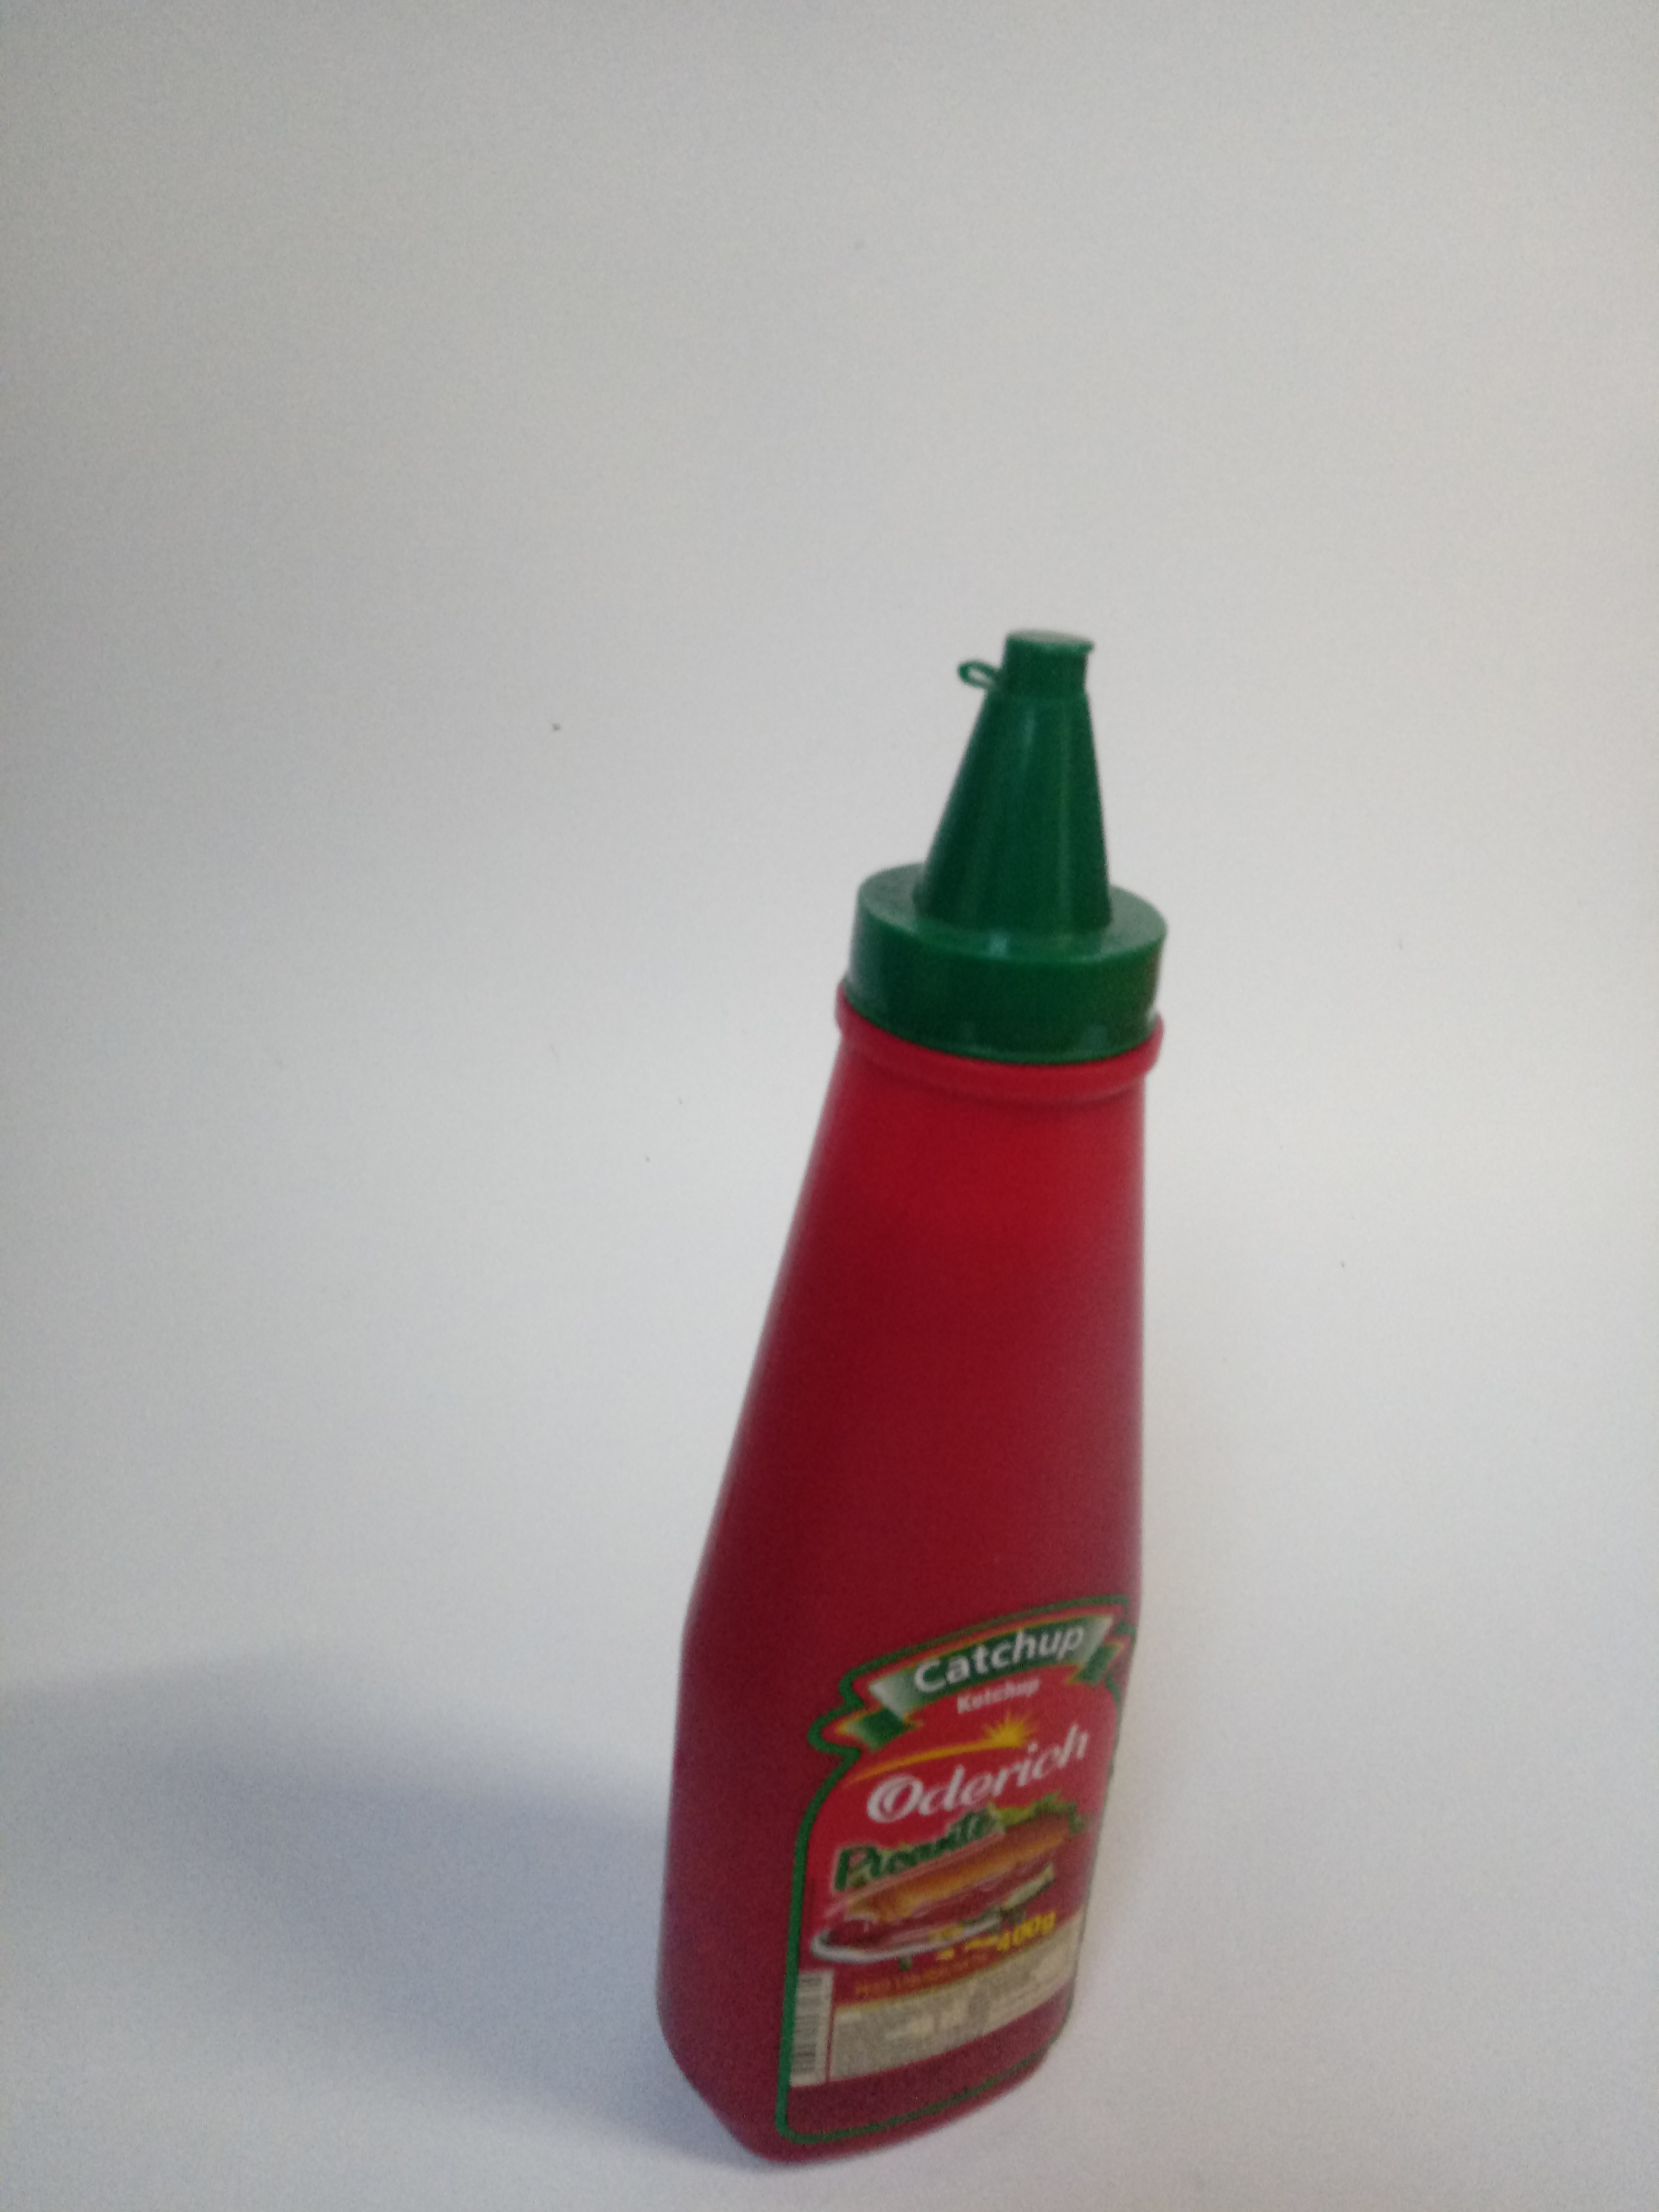catchup-oderich: (619, 571, 1199, 2184)
